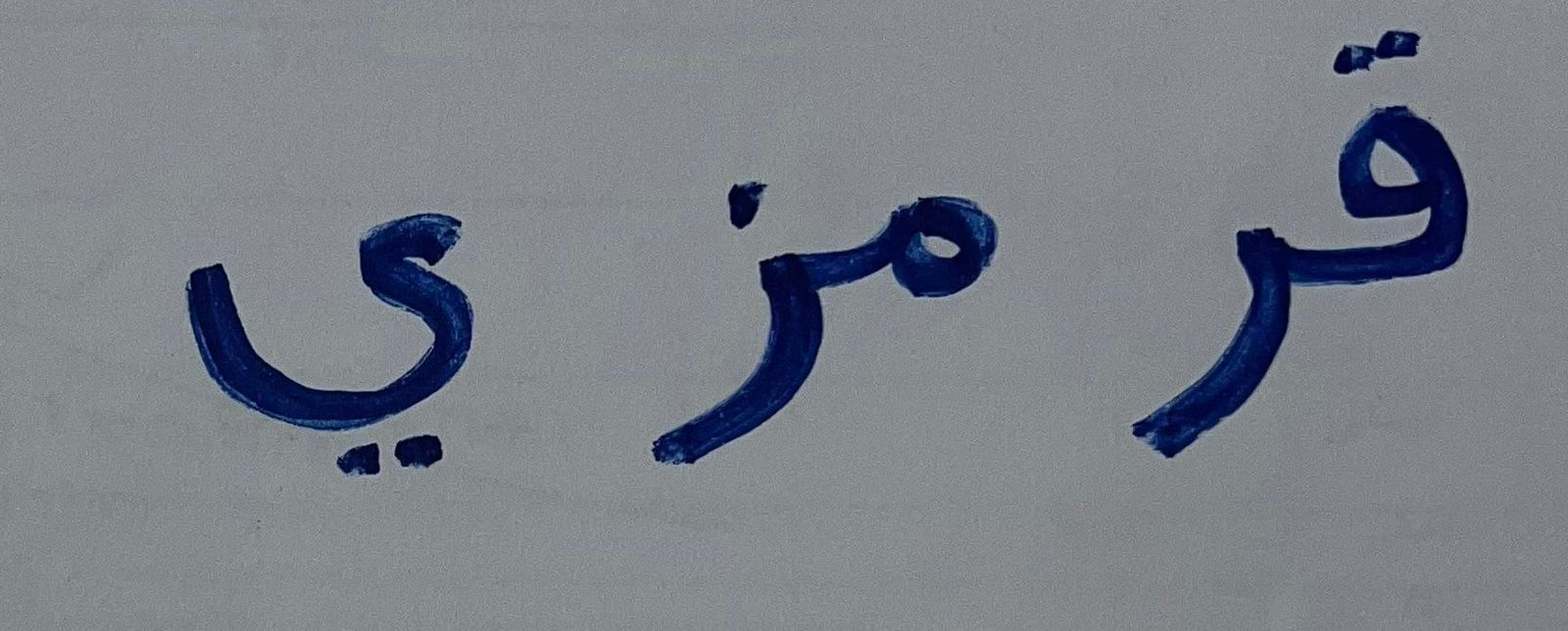qaf: (1304, 16, 1508, 300)
reh: (1052, 168, 1301, 471)
teh_marbota: (836, 135, 1043, 377)
yeh: (124, 128, 552, 515)
zain: (622, 131, 831, 507)
